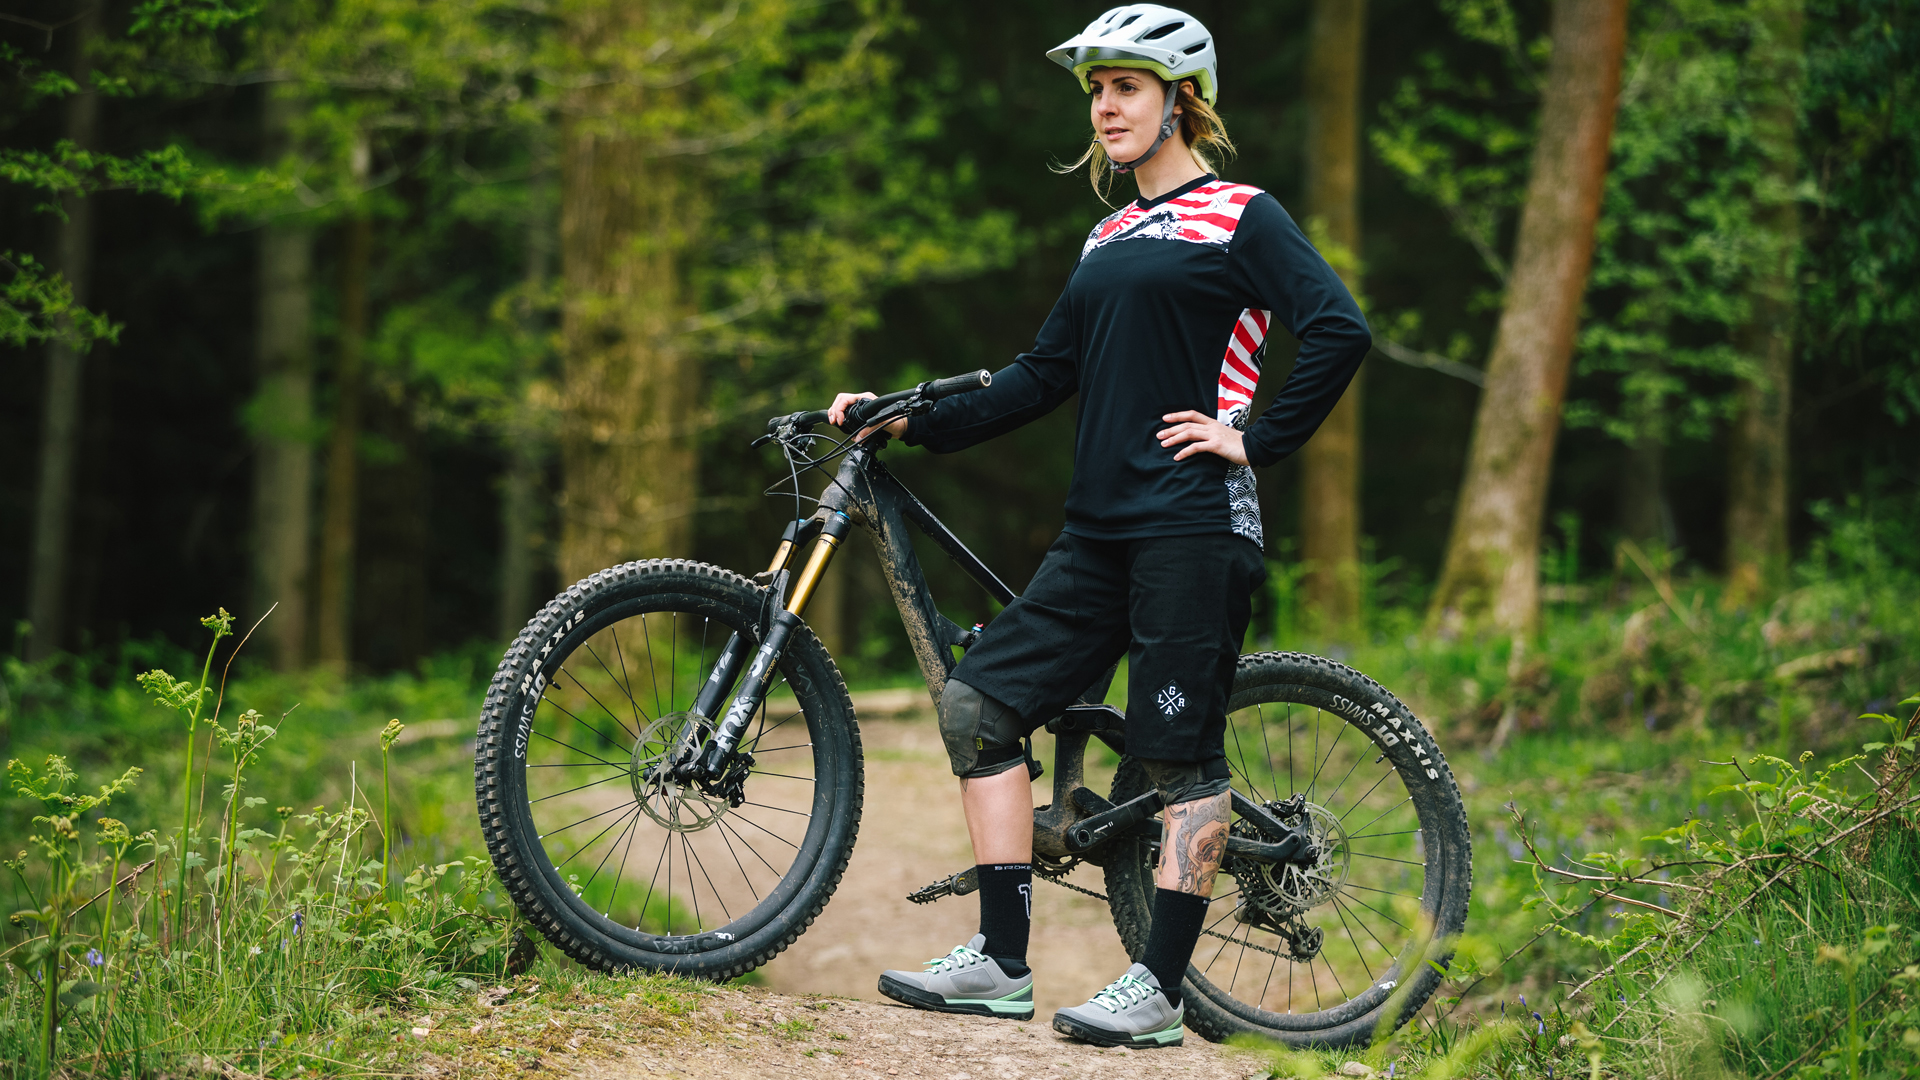with_helmet: (1047, 18, 1225, 100)
